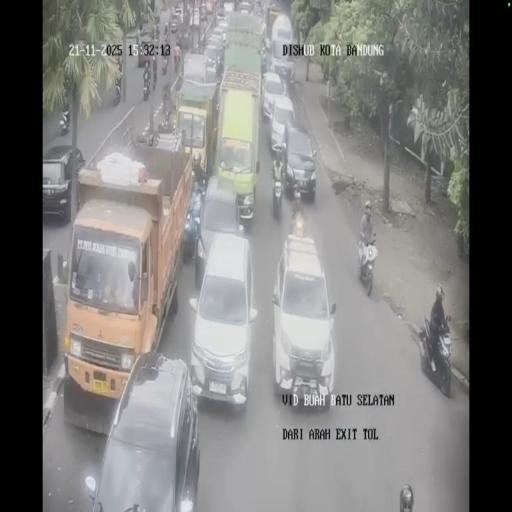3: (64, 137, 192, 417), (172, 69, 219, 181), (222, 8, 265, 87), (84, 42, 120, 102), (270, 14, 294, 86), (137, 33, 155, 66), (125, 30, 139, 62)
car: (273, 233, 335, 407), (194, 174, 245, 285), (41, 145, 85, 223), (282, 126, 317, 200), (262, 71, 286, 125), (202, 43, 222, 80), (216, 16, 230, 40), (189, 8, 200, 28), (172, 6, 182, 25), (253, 0, 263, 17), (222, 1, 234, 15), (239, 0, 251, 13), (200, 2, 206, 16)
truck: (418, 310, 452, 397), (358, 234, 378, 294), (271, 164, 284, 217), (135, 125, 156, 147), (158, 110, 174, 134), (59, 109, 69, 136), (112, 80, 121, 105), (175, 68, 184, 92), (152, 56, 158, 87), (162, 80, 170, 103), (142, 78, 150, 100), (175, 28, 183, 48), (161, 53, 168, 75), (174, 49, 180, 70), (164, 26, 170, 46), (154, 24, 160, 41)
